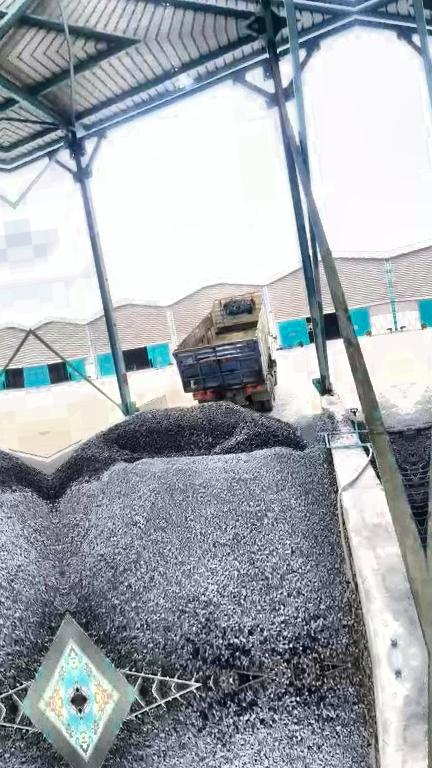gravel: (57, 406, 365, 683), (50, 402, 305, 503), (358, 419, 382, 483), (387, 424, 414, 466)
